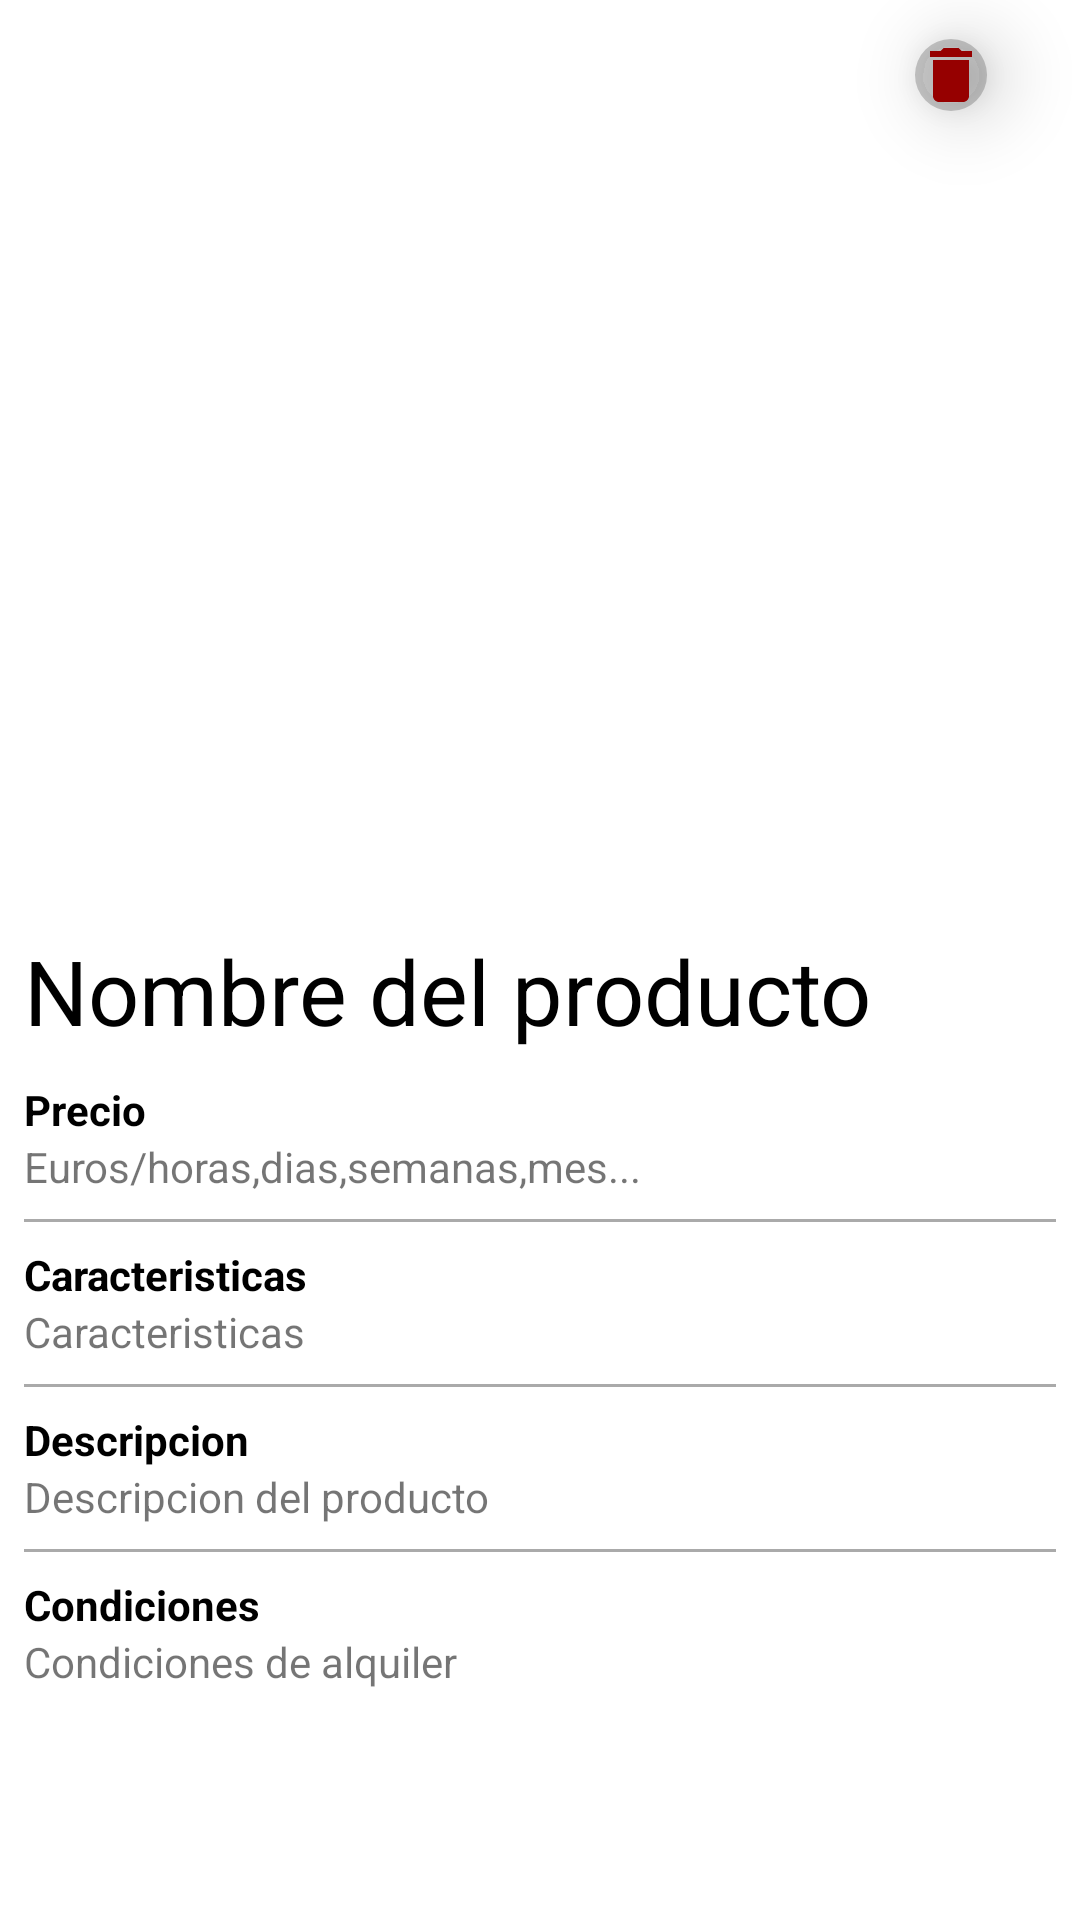

Screen size 1080 x 1920. Icon name, then its center in pixels as (x,y):
delete: (951,75)
